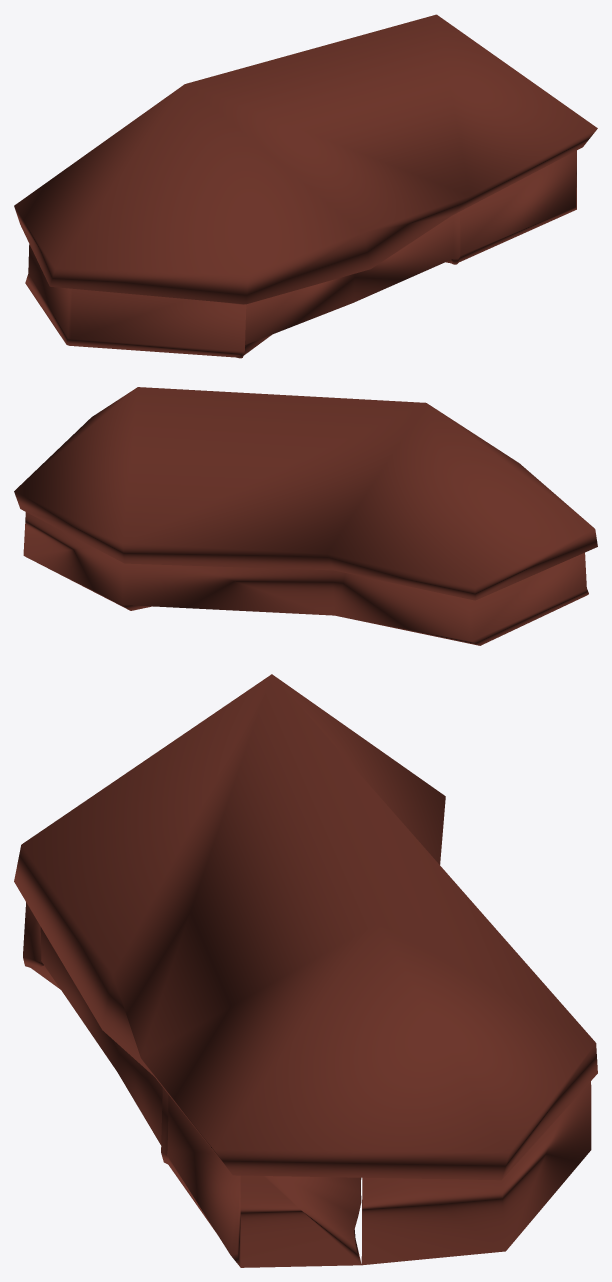
File: Tent-Long.fbx
3 renders of one model, top to bottom at view 1: azimuth 30°, elevation 25°; view 2: azimuth 150°, elevation 25°; view 3: azimuth 270°, elevation 25°, orthographic. The views are drawn at different scales.
Parts seen in each view (by area): view 1: TentWalls.002; view 2: TentWalls.002; view 3: TentWalls.002.
Part boxes in pixels (x1,y1,x2,y2): TentWalls.002: [14, 14, 597, 358]; TentWalls.002: [14, 387, 597, 645]; TentWalls.002: [14, 674, 597, 1267].
Size of the model in its own units: 2028 by 1232 by 759.
